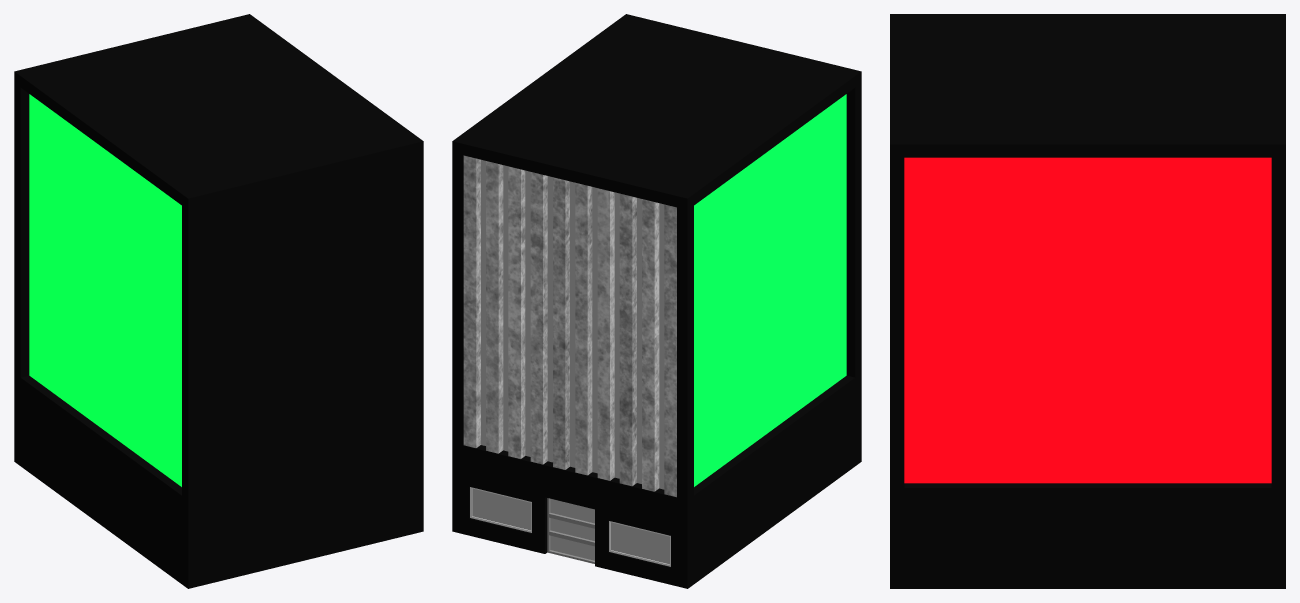
File: PCB2 NoLights.fbx
The picture shows the model from 3 angles, left to right: view 1: azimuth 30°, elevation 25°; view 2: azimuth 150°, elevation 25°; view 3: azimuth 270°, elevation 25°; orthographic projection. The views are drawn at different scales.
Parts seen in each view (by area): view 1: Plane.008; view 2: Plane.008; view 3: Plane.008.
Boxes of the visible parts, x1=… form: Plane.008: x1=14, y1=14, x2=423, y2=588; Plane.008: x1=452, y1=14, x2=861, y2=588; Plane.008: x1=890, y1=14, x2=1285, y2=588.
Bounding box in the file's own units: 7.37 × 9.42 × 11.67.
